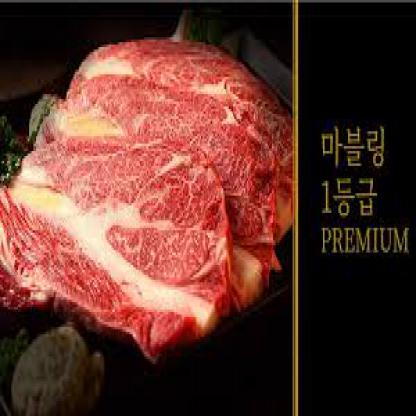beef: (18, 60, 288, 356)
